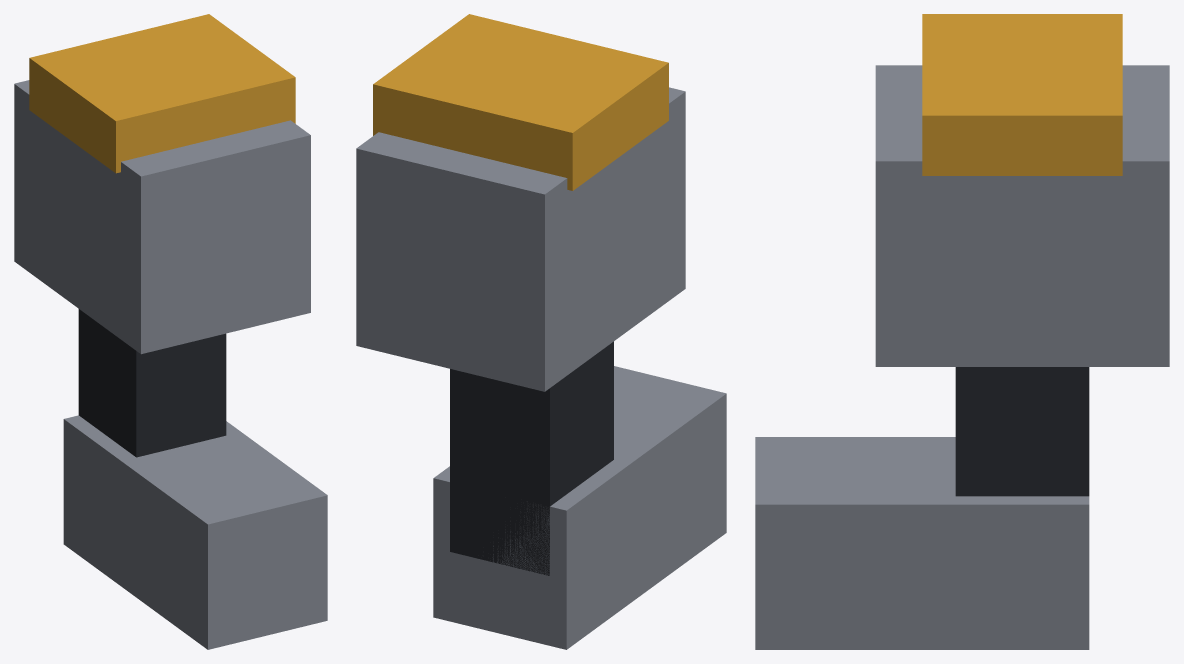
File: arm_std.glb
3 renders of one model, left to right at view 1: azimuth 30°, elevation 25°; view 2: azimuth 150°, elevation 25°; view 3: azimuth 270°, elevation 25°, orthographic. The views are drawn at different scales.
Visible parts, largest first — view 1: arm, fore, upper; view 2: arm, fore, upper; view 3: arm, fore, upper.
Part boxes in pixels (left/top/right/bottom): arm: left=14, top=14, right=310, bottom=354; fore: left=63, top=415, right=327, bottom=649; upper: left=78, top=309, right=226, bottom=457; arm: left=356, top=14, right=685, bottom=391; fore: left=433, top=366, right=726, bottom=649; upper: left=450, top=341, right=613, bottom=575; arm: left=875, top=14, right=1169, bottom=366; fore: left=755, top=437, right=1089, bottom=649; upper: left=955, top=367, right=1089, bottom=496.
Size of the model in its own units: 0.36 by 0.92 by 0.62.
